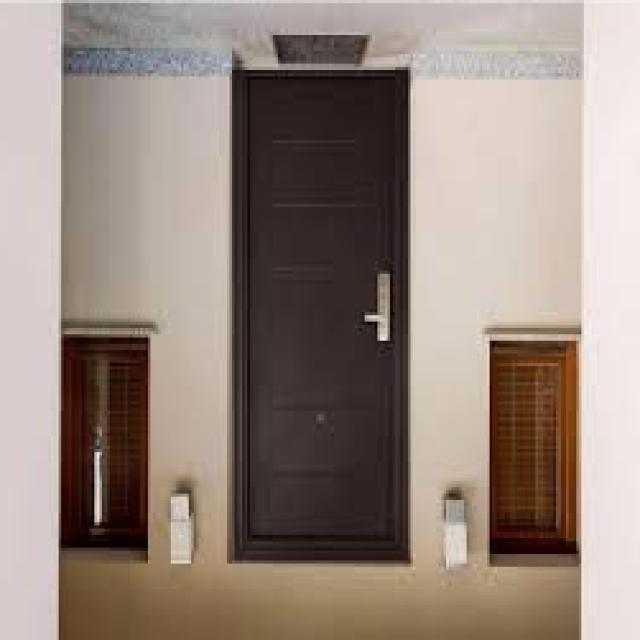door: (232, 69, 411, 565)
